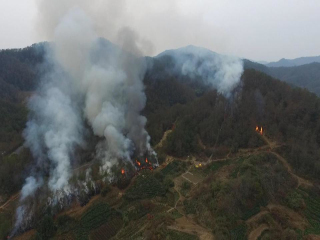smoke: (15, 6, 161, 204), (175, 40, 247, 102)
